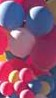Balloon: (7, 29, 35, 60), (27, 6, 56, 35), (1, 1, 23, 29), (18, 67, 32, 81), (1, 81, 14, 95), (29, 80, 42, 93)
